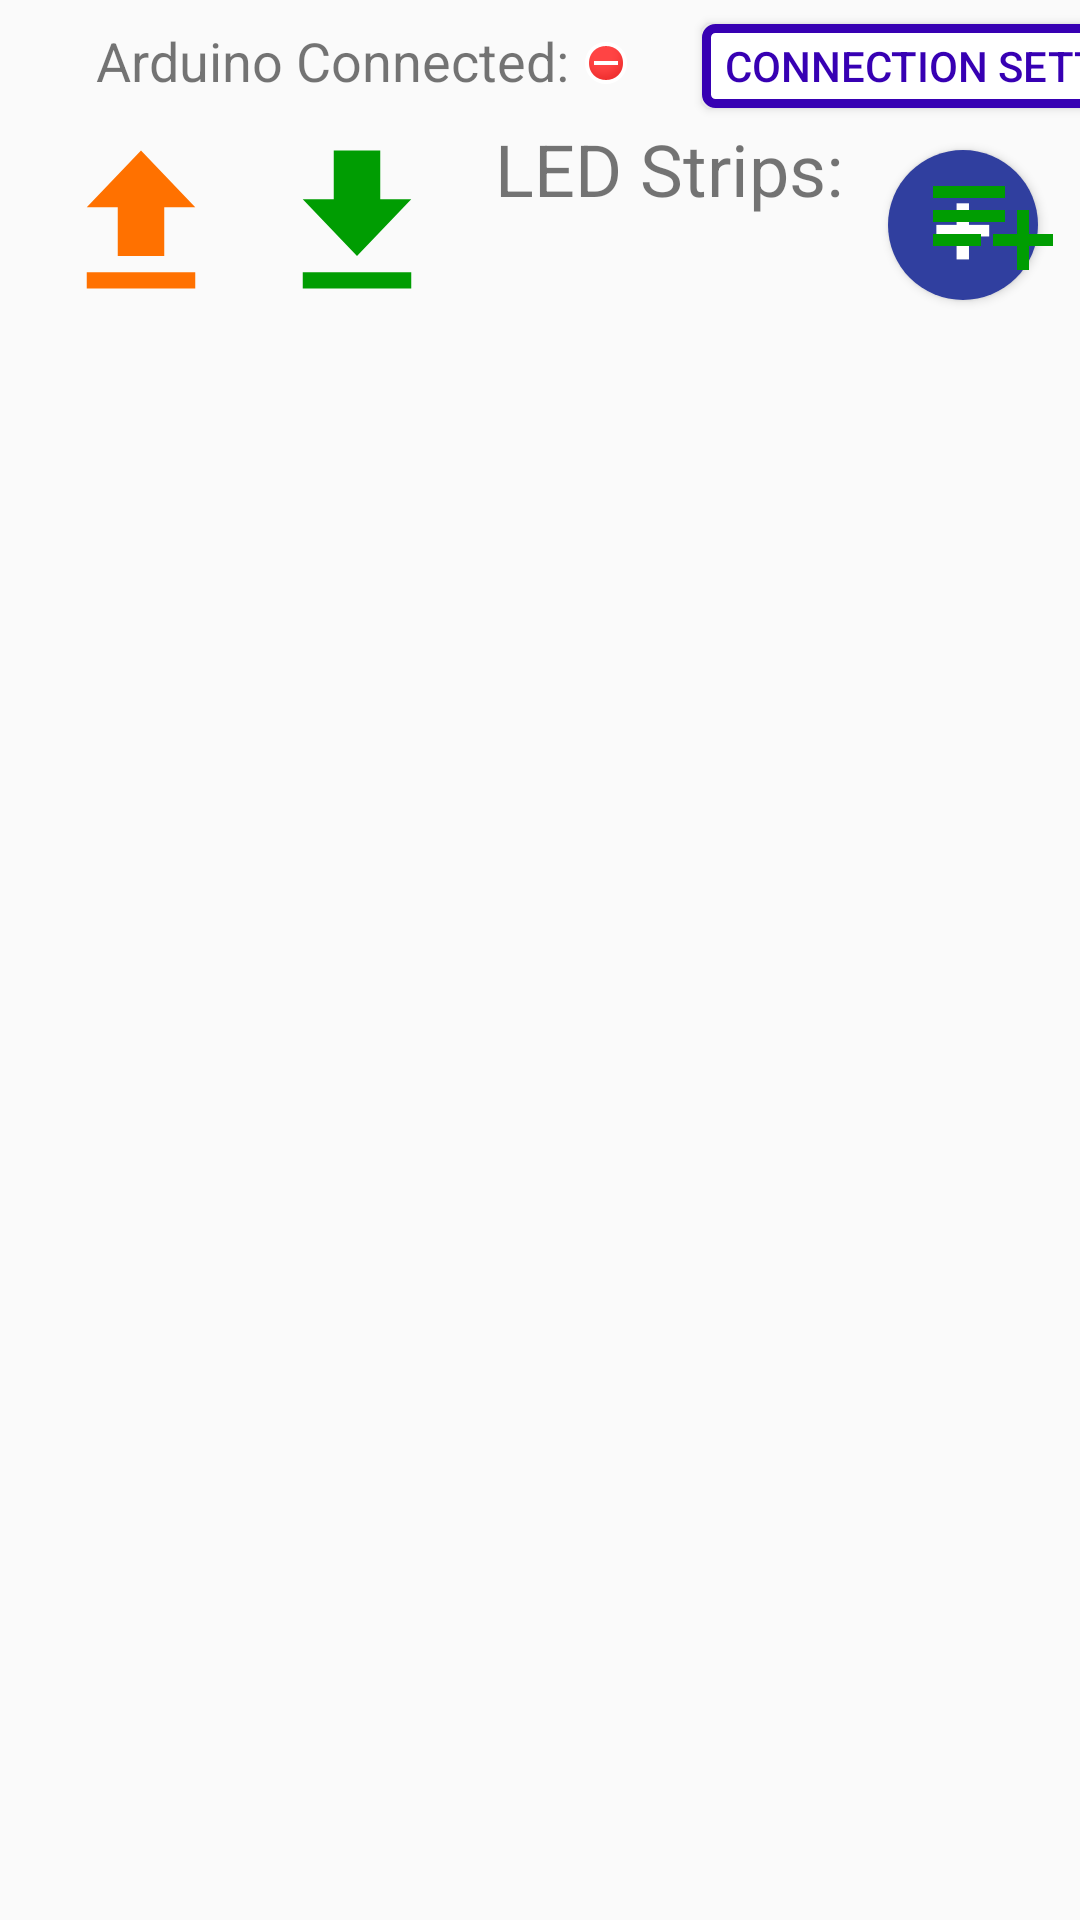

Icon bounding boxes for this 1080x1920 phone screenshot, format (x1=x1, y1=y1, x2=x2, y2=y2):
playlist add: (x1=921, y1=150, x2=1053, y2=294)
